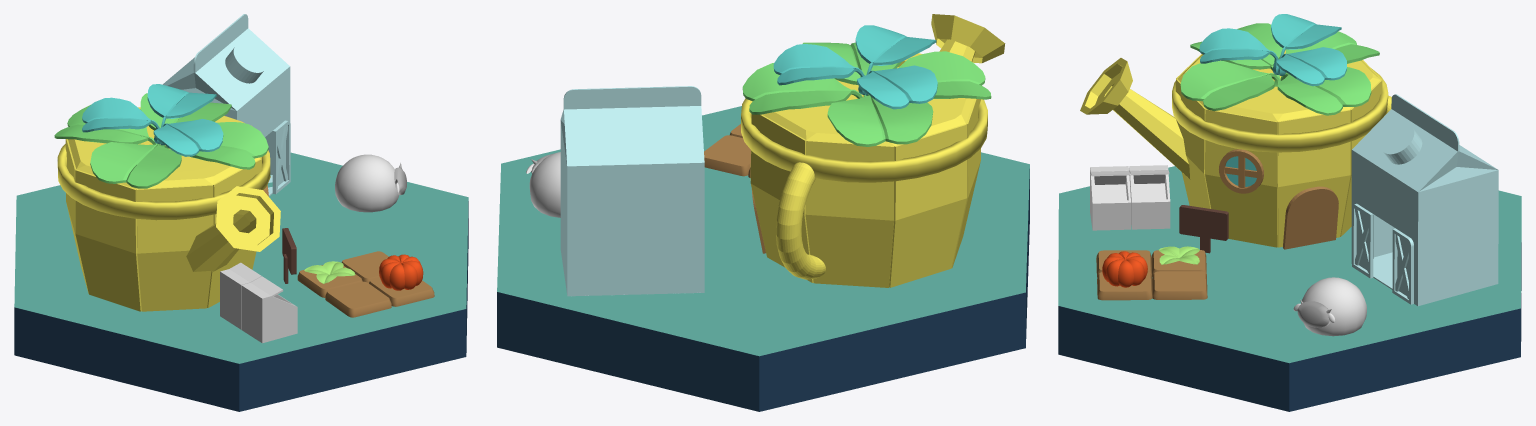
Rendered from Macro - farm barn lv2 WM 1.fbx.
3 renders of one model, left to right at view 1: azimuth 30°, elevation 25°; view 2: azimuth 150°, elevation 25°; view 3: azimuth 270°, elevation 25°, orthographic. The views are drawn at different scales.
Visible parts, largest first — view 1: Cylinder.154, Cube.020, Milk_Carton_packet.001, Cube.019, Cube.047, Plane.009, Cube.046, Sphere.011, Cube.138, Plane.014, Plane.015, Plane.016 (+9 smaller); view 2: Cylinder.154, Milk_Carton_packet.001, Cube.020, Cube.047, Plane.005, Cube.005, Plane.020, Plane.016, Plane.009, Plane.010, Plane.015, Cube.046 (+4 smaller); view 3: Cylinder.154, Milk_Carton_packet.001, Cube.020, Cube.047, Cube.019, Plane.014, Cube.033, Cube.045, Plane.020, Cube.138, Cube.137, Sphere.011 (+12 smaller).
Part boxes in pixels (x1,y1,x2,y2): Cylinder.154: (14, 152, 468, 411); Cube.020: (65, 107, 262, 311); Milk_Carton_packet.001: (163, 14, 290, 196); Cube.019: (297, 251, 434, 317); Cube.047: (57, 144, 270, 220); Plane.009: (90, 142, 181, 188); Cube.046: (216, 186, 280, 251); Sphere.011: (335, 154, 398, 212); Cube.138: (241, 276, 297, 343); Plane.014: (165, 122, 268, 169); Plane.015: (153, 119, 223, 156); Plane.016: (82, 97, 159, 143); Cylinder.154: (497, 106, 1029, 411); Milk_Carton_packet.001: (560, 86, 704, 296); Cube.020: (750, 53, 980, 287); Cube.047: (741, 98, 987, 182); Plane.005: (827, 94, 933, 146); Cube.005: (776, 162, 825, 279); Plane.020: (742, 63, 862, 114); Plane.016: (857, 65, 937, 109); Plane.009: (898, 51, 991, 99); Plane.010: (773, 44, 864, 94); Plane.015: (855, 25, 936, 74); Cube.046: (931, 14, 1005, 63); Cylinder.154: (1058, 166, 1521, 411); Milk_Carton_packet.001: (1351, 94, 1498, 306); Cube.020: (1175, 54, 1382, 247); Cube.047: (1172, 68, 1388, 152); Cube.019: (1096, 250, 1207, 300); Plane.014: (1180, 61, 1279, 110); Cube.033: (1283, 186, 1338, 249); Cube.045: (1113, 89, 1190, 179); Plane.020: (1277, 67, 1371, 115); Cube.138: (1090, 166, 1130, 230); Cube.137: (1129, 165, 1170, 229); Sphere.011: (1302, 277, 1366, 336).
Size of the model in its own units: 197 by 88.37 by 172.
